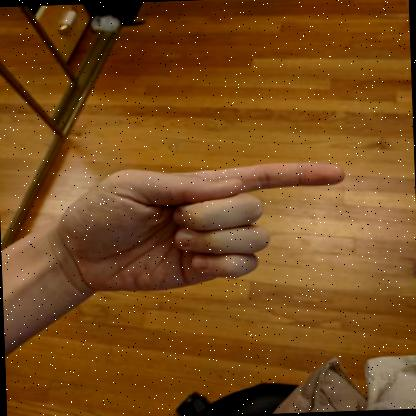G: (57, 163, 345, 298)
